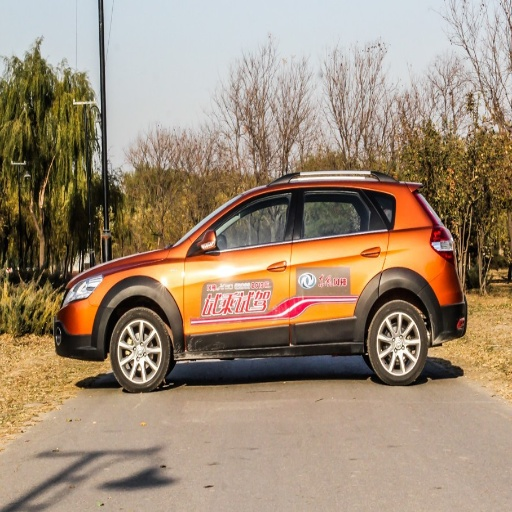back_left_door: (291, 186, 386, 338)
front_left_door: (184, 187, 296, 332)
